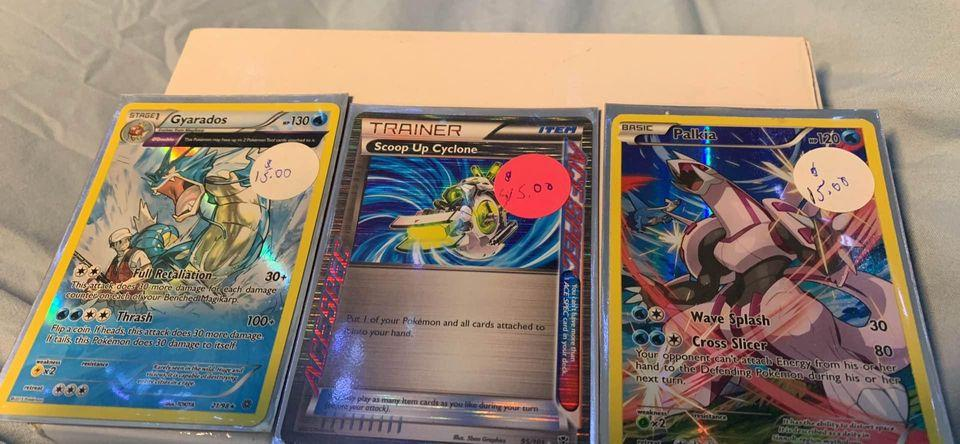card: (0, 100, 344, 428), (606, 111, 944, 444), (279, 109, 594, 444)
